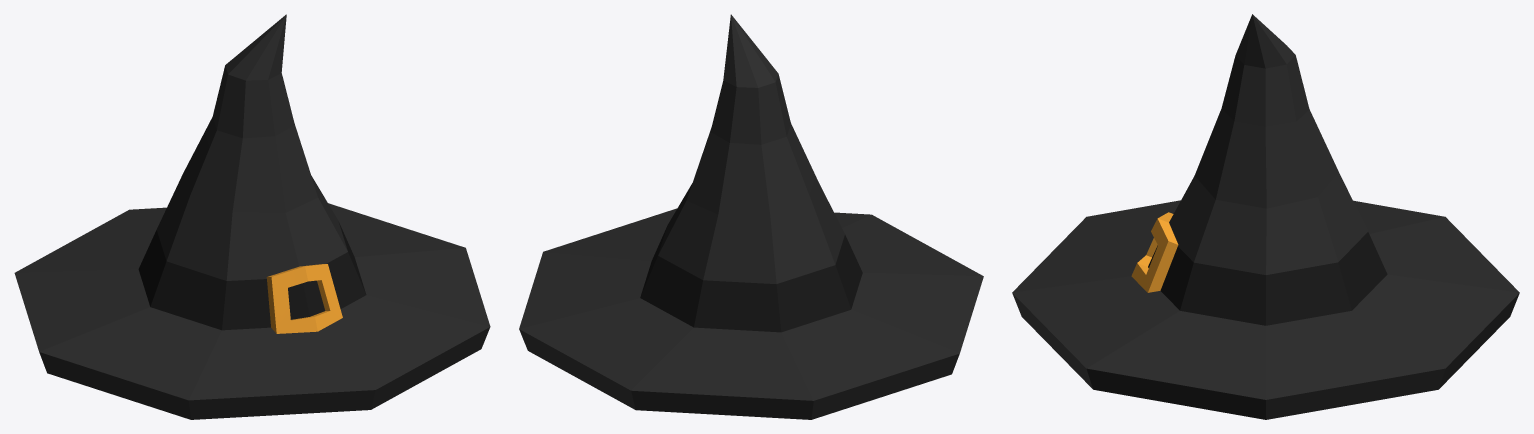
File: fantasy_hat-witch.fbx
3 renders of one model, left to right at view 1: azimuth 30°, elevation 25°; view 2: azimuth 150°, elevation 25°; view 3: azimuth 270°, elevation 25°, orthographic. The views are drawn at different scales.
Visible parts, largest first — view 1: fantasy_hat_witch; view 2: fantasy_hat_witch; view 3: fantasy_hat_witch.
Part boxes in pixels (x1,y1,x2,y2): fantasy_hat_witch: (14, 14, 490, 419); fantasy_hat_witch: (519, 14, 983, 419); fantasy_hat_witch: (1012, 14, 1519, 419).
Bounding box in the file's own units: 200 × 138 × 200.
